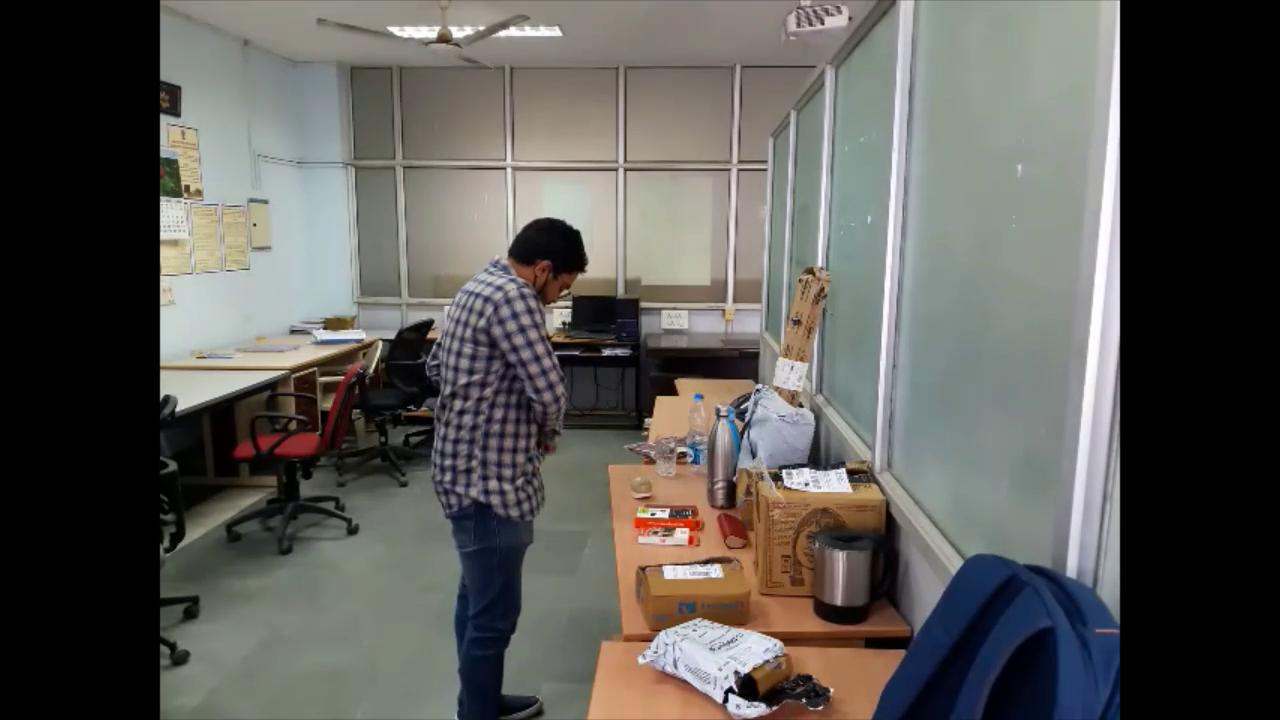shoplifting: (412, 197, 590, 720)
